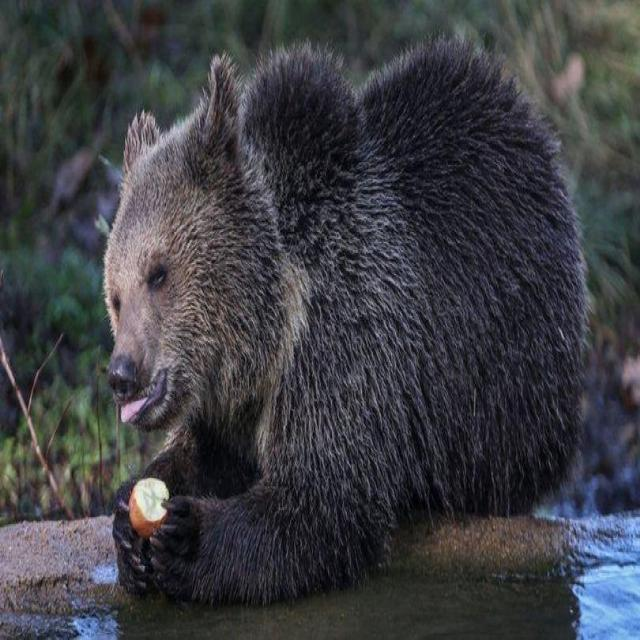Bear: (103, 38, 589, 609)
